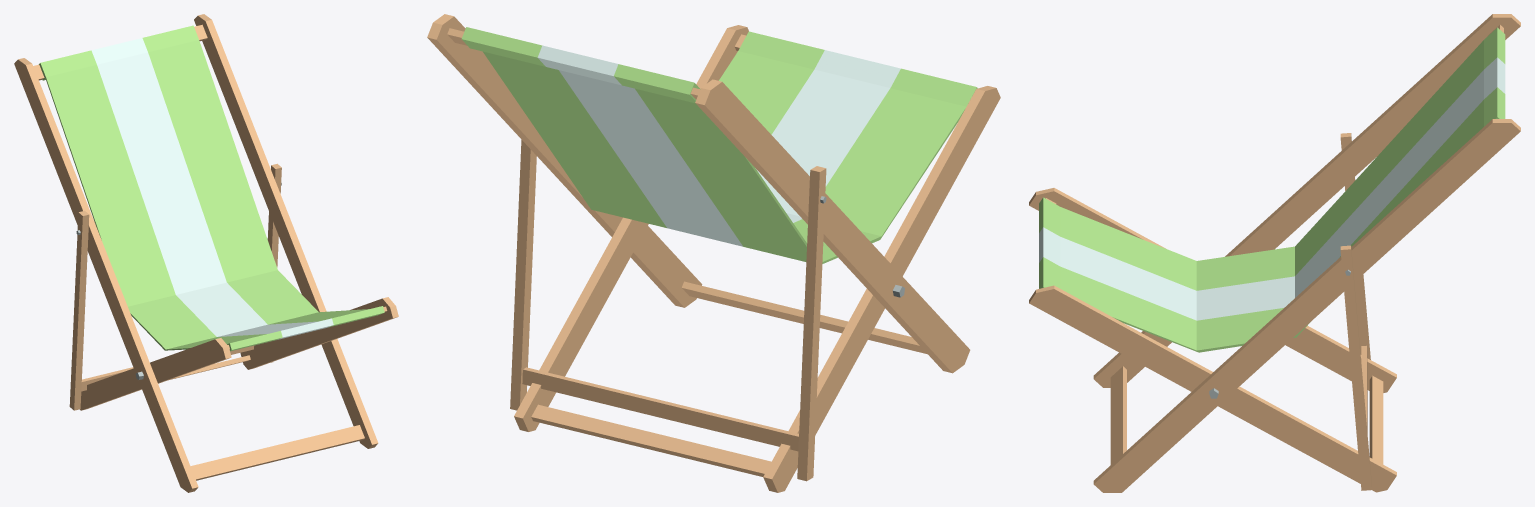
Rendered from ChaiseLongue_B.fbx.
3 views of the same model, side by side, from view 1: azimuth 30°, elevation 25°; view 2: azimuth 150°, elevation 25°; view 3: azimuth 270°, elevation 25° (orthographic). The views are drawn at different scales.
Visible parts, largest first — view 1: ChaiseLongue_B; view 2: ChaiseLongue_B; view 3: ChaiseLongue_B.
Part boxes in pixels (x1=…): ChaiseLongue_B: x1=14, y1=14, x2=398, y2=492; ChaiseLongue_B: x1=427, y1=14, x2=1000, y2=492; ChaiseLongue_B: x1=1029, y1=14, x2=1520, y2=492.
Size of the model in its own units: 63.32 by 92.77 by 111.
